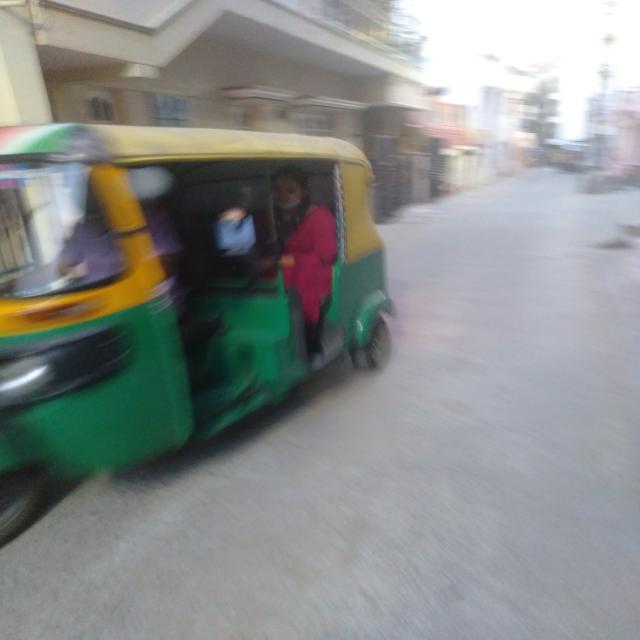Autorickshaw: (8, 108, 410, 495)
